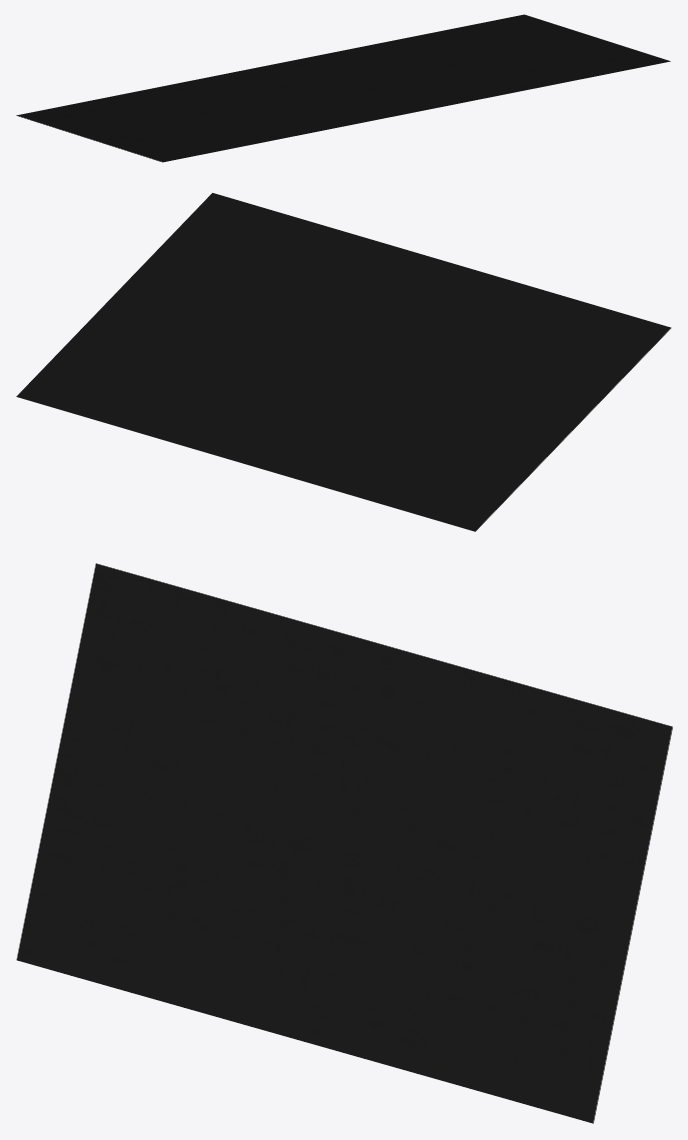
Rendered from SeatPlatform.fbx.
3 renders of one model, top to bottom at view 1: azimuth 30°, elevation 25°; view 2: azimuth 150°, elevation 25°; view 3: azimuth 270°, elevation 25°, orthographic. The views are drawn at different scales.
Visible parts, largest first — view 1: SeatFlooring12; view 2: SeatFlooring12; view 3: SeatFlooring12.
Boxes of the visible parts, x1,y1,x2,y2 form: SeatFlooring12: (16,14,670,162); SeatFlooring12: (16,192,671,531); SeatFlooring12: (16,563,672,1123).
Bounding box in the file's own units: 21.06 × 3.35 × 13.97.
Materials: 1 (1 with a texture image).
